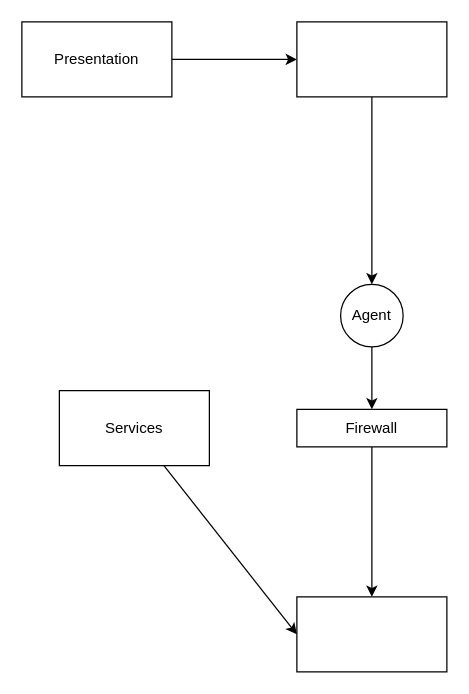
This 469x694 diagram has some shape labels left out. Here are the shapes that lost their labels. From the top down, the centre of each, then its label:
At pixel 371 59: "Application".
At pixel 371 634: "Kernel".
